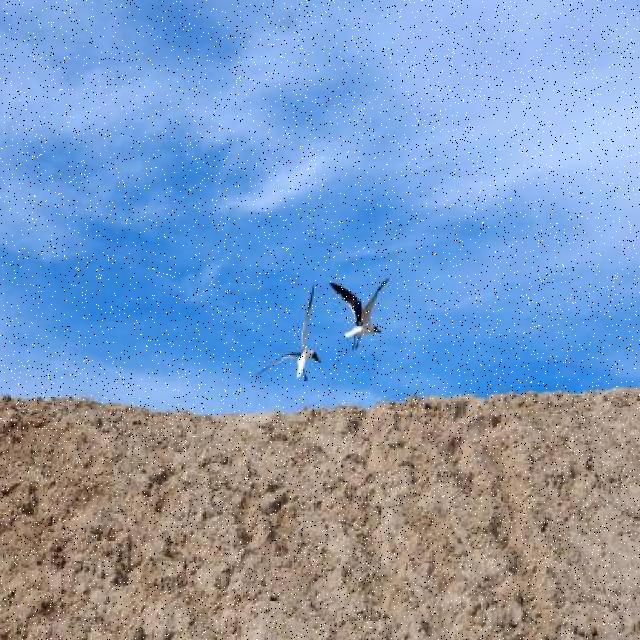bird: (256, 283, 321, 382), (330, 277, 388, 351)
